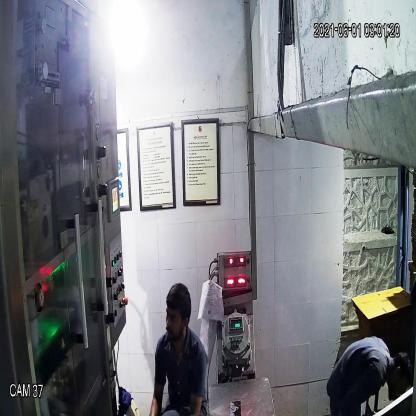no_goggles: (162, 305, 188, 330)
